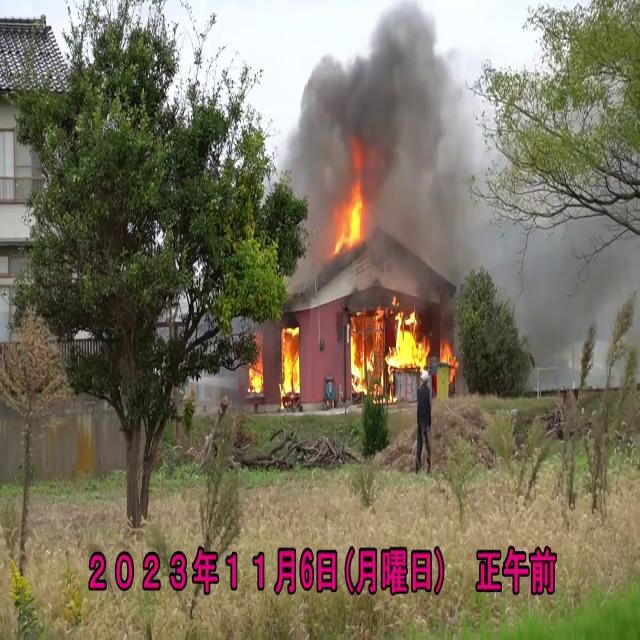Fire: (348, 296, 432, 392), (331, 167, 369, 260), (276, 323, 302, 397)
Smoke: (282, 1, 493, 288)
